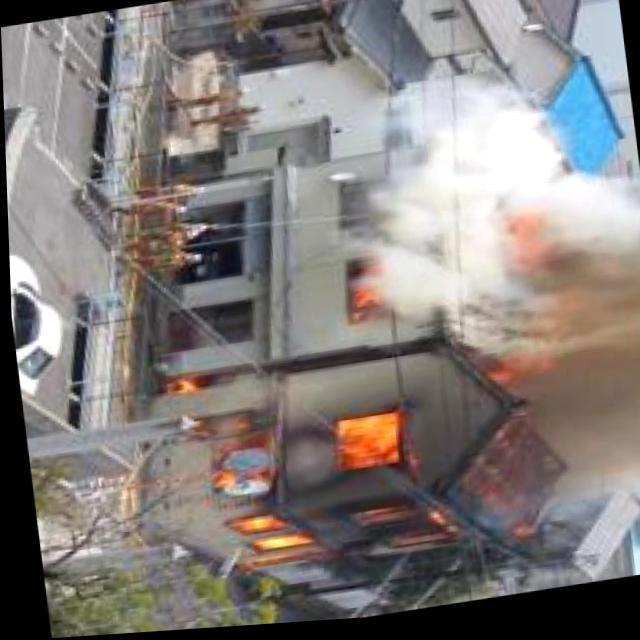fire: (146, 334, 470, 602), (335, 247, 389, 326)
